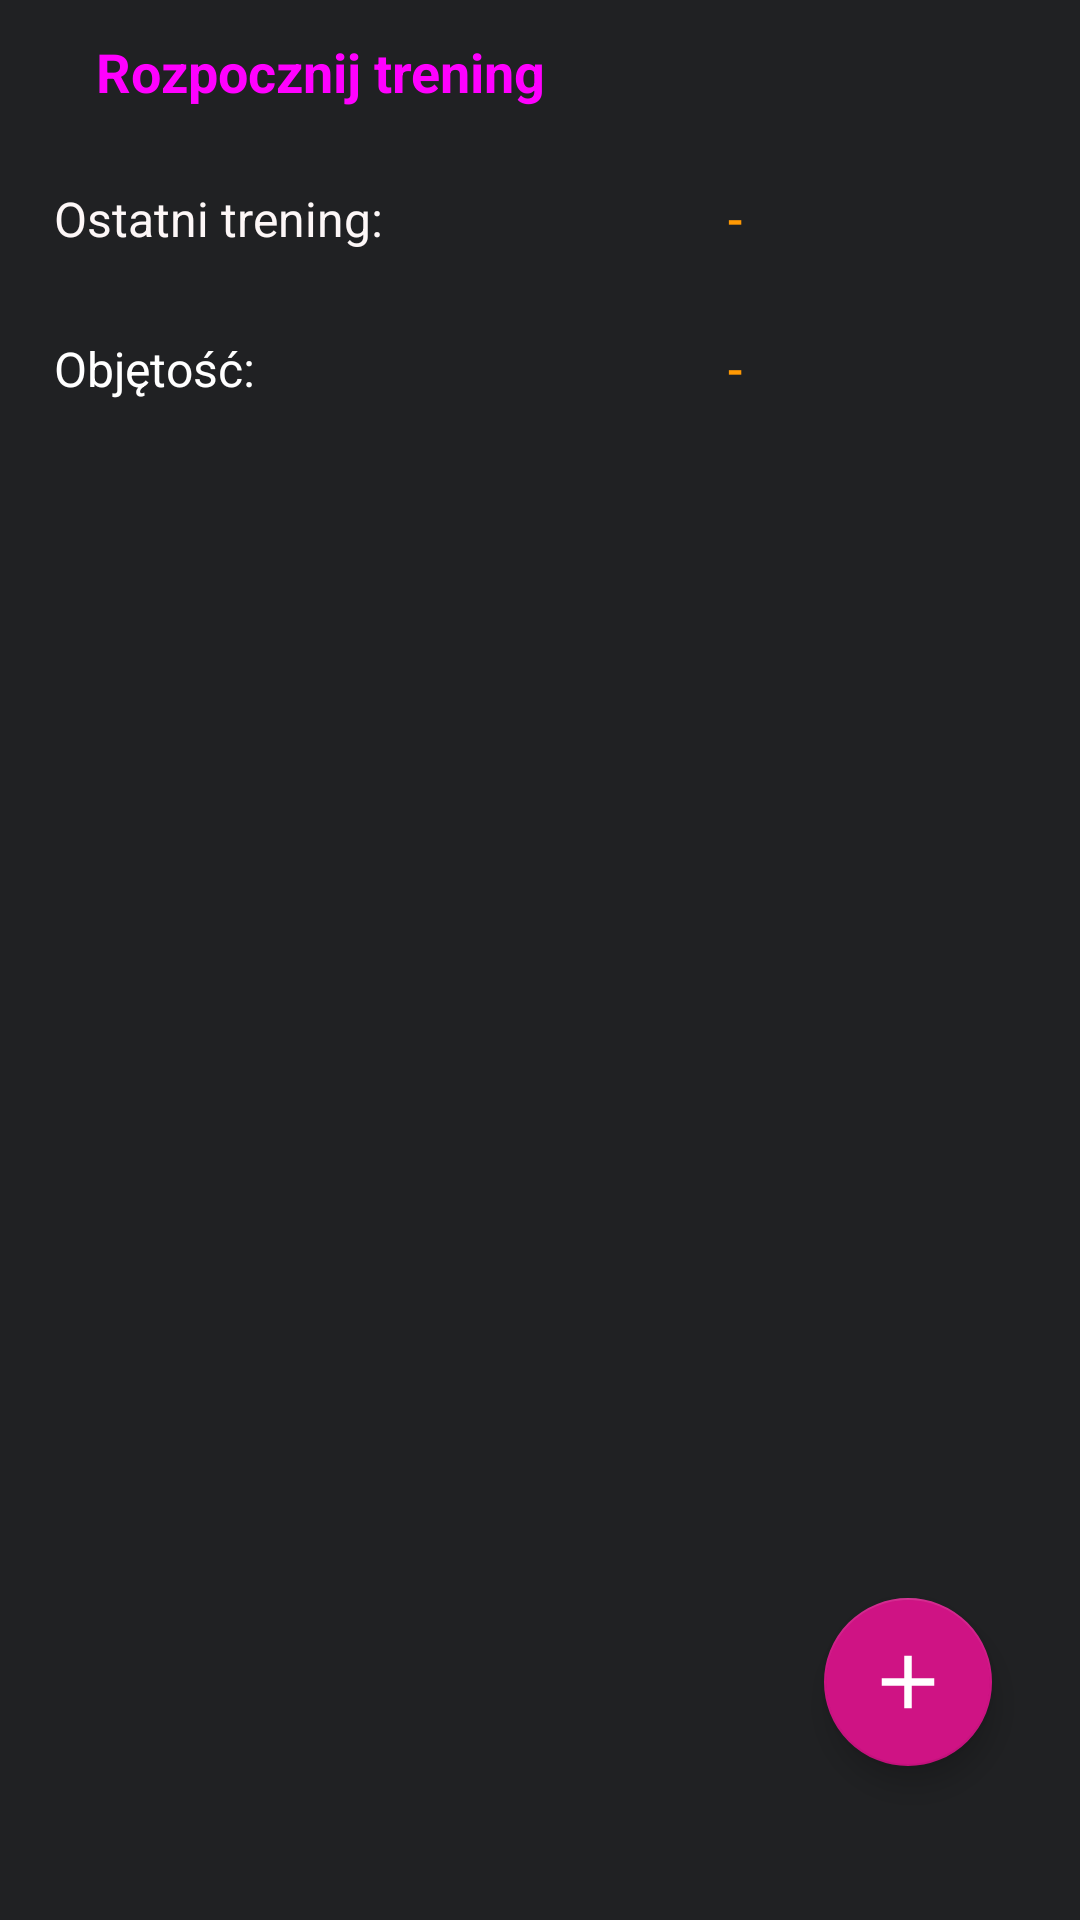

Named icons in this screenshot (1080px x 1920px) and their bounding boxes, (x1, y1, x2, y2):
add: (824, 1598, 992, 1766)
